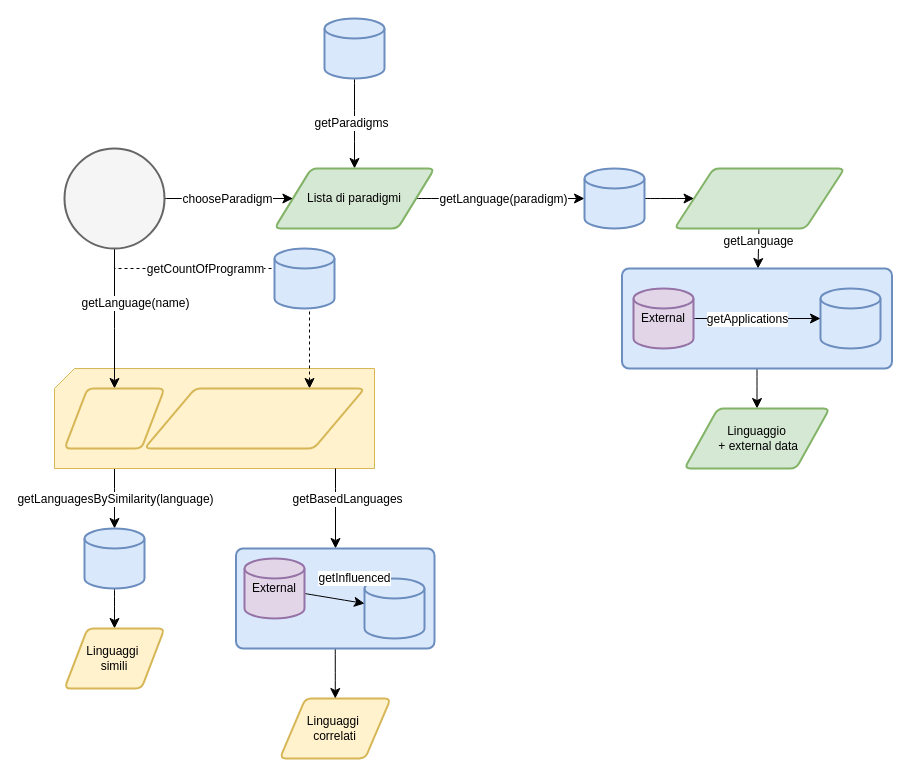
Image size: 910x776. Some labels were removed from this diagram. The shapes that lost their labels are listed below. From the top down, each one's centre as x and y in pixels, then its label:
At (759,198): "Linguaggi con il dato paradigma".
At (114,418): "Linguaggio".
At (254,418): "Conta di applicazioni usate per il linguaggio".
